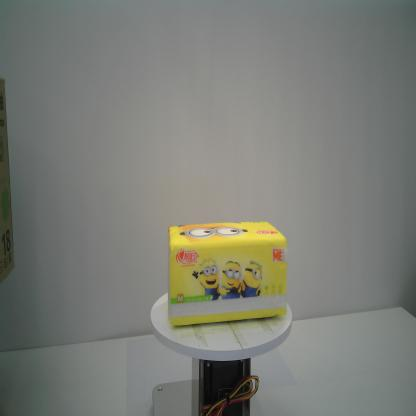Tissue: (166, 220, 288, 328)
